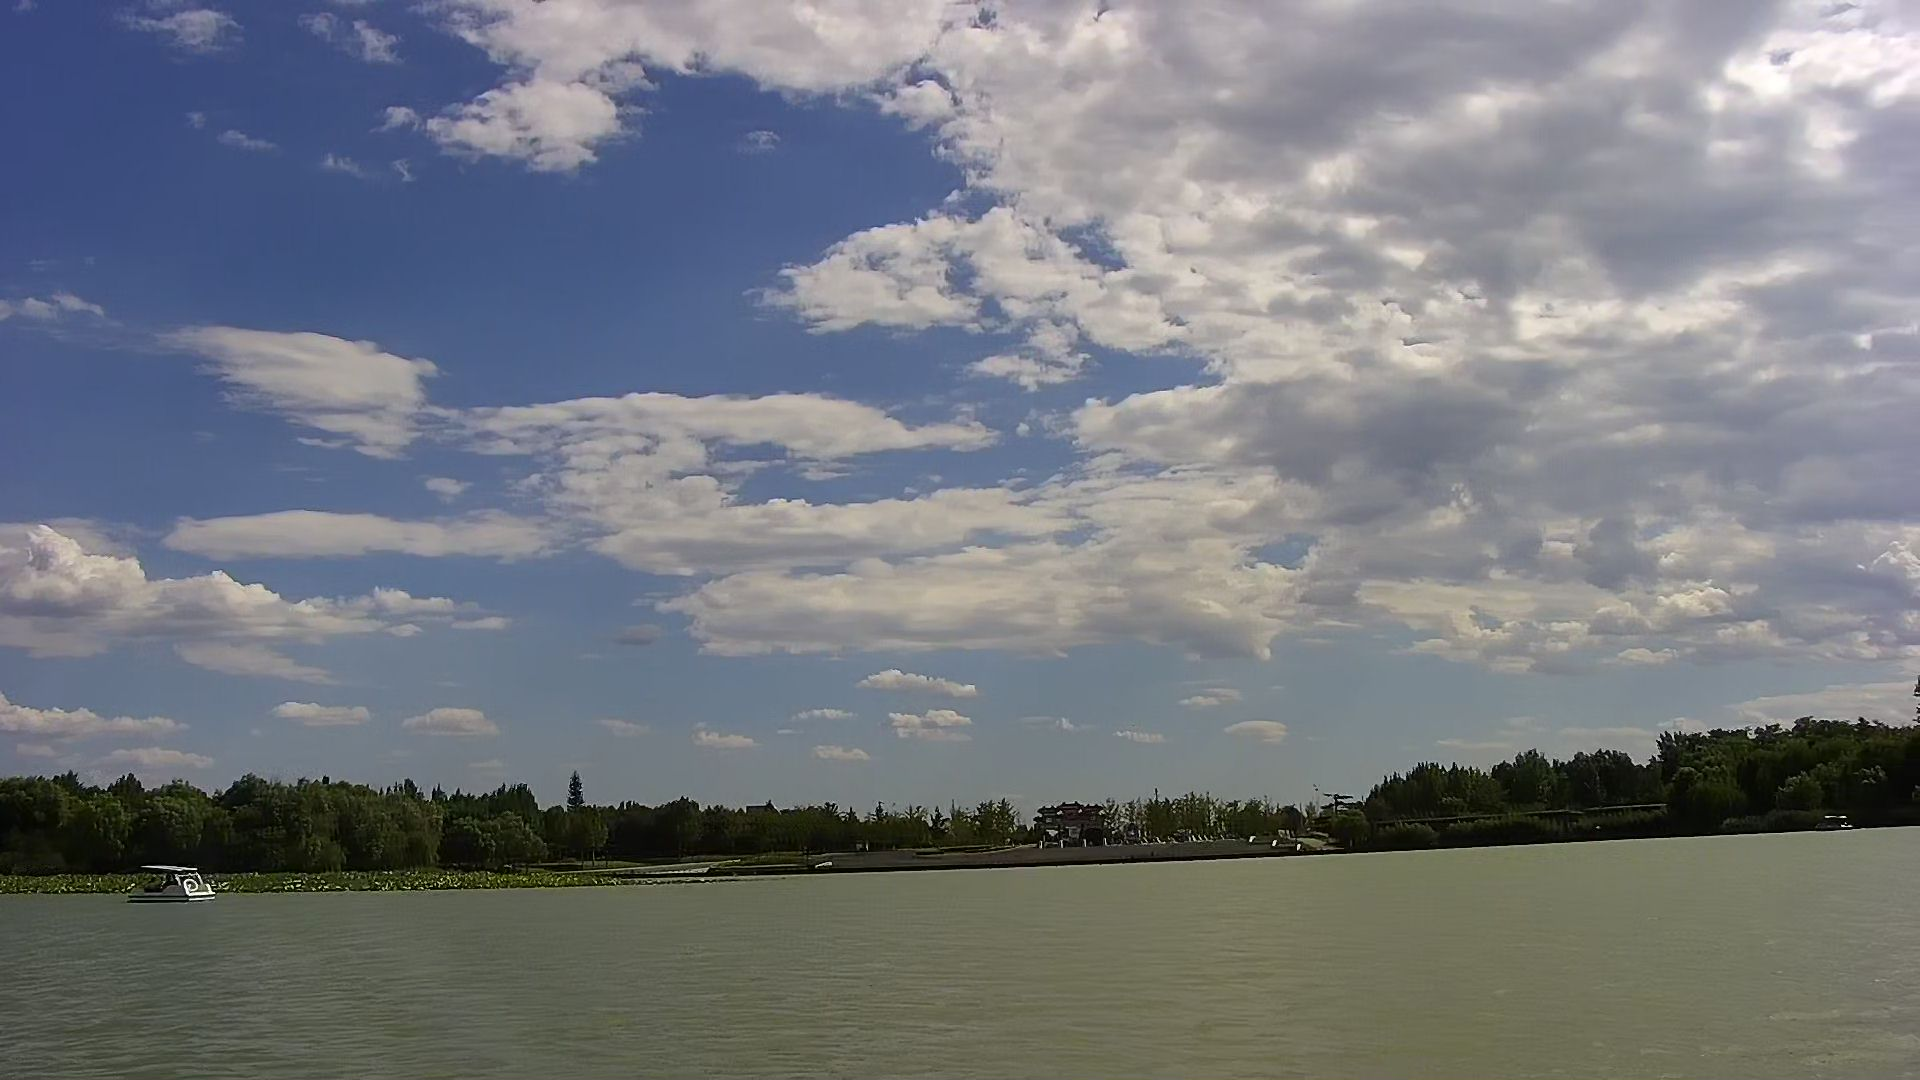boat: (124, 856, 218, 905)
